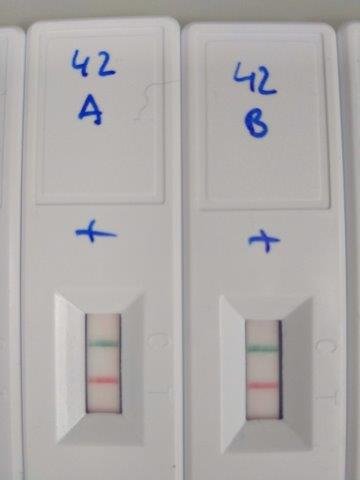Positive: (85, 315, 122, 414), (245, 320, 281, 418)
